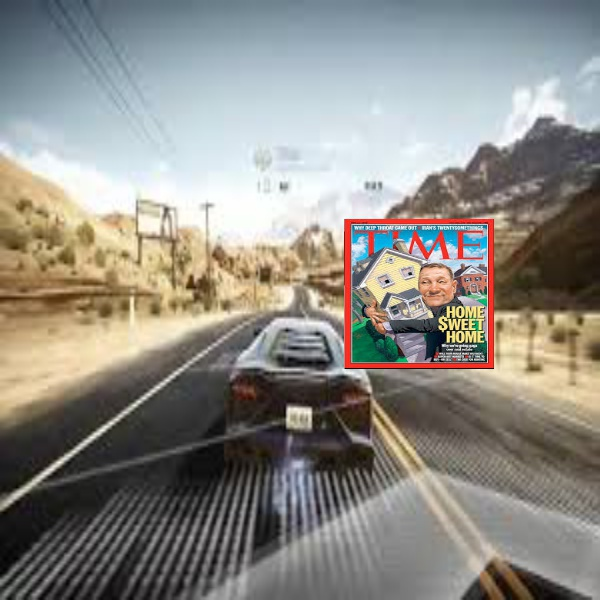time_cover: (340, 204, 499, 375)
